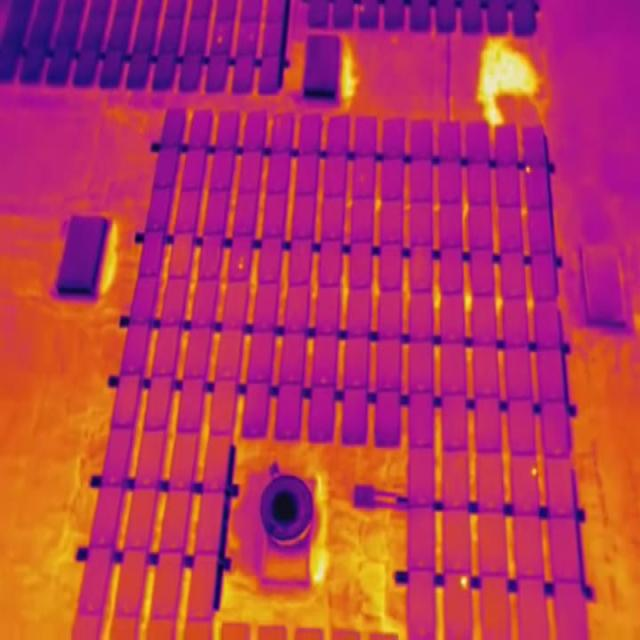Orange-Spots: (460, 576, 469, 589), (238, 257, 244, 270), (532, 466, 538, 477), (525, 166, 531, 173), (218, 36, 222, 42), (360, 5, 364, 11)
